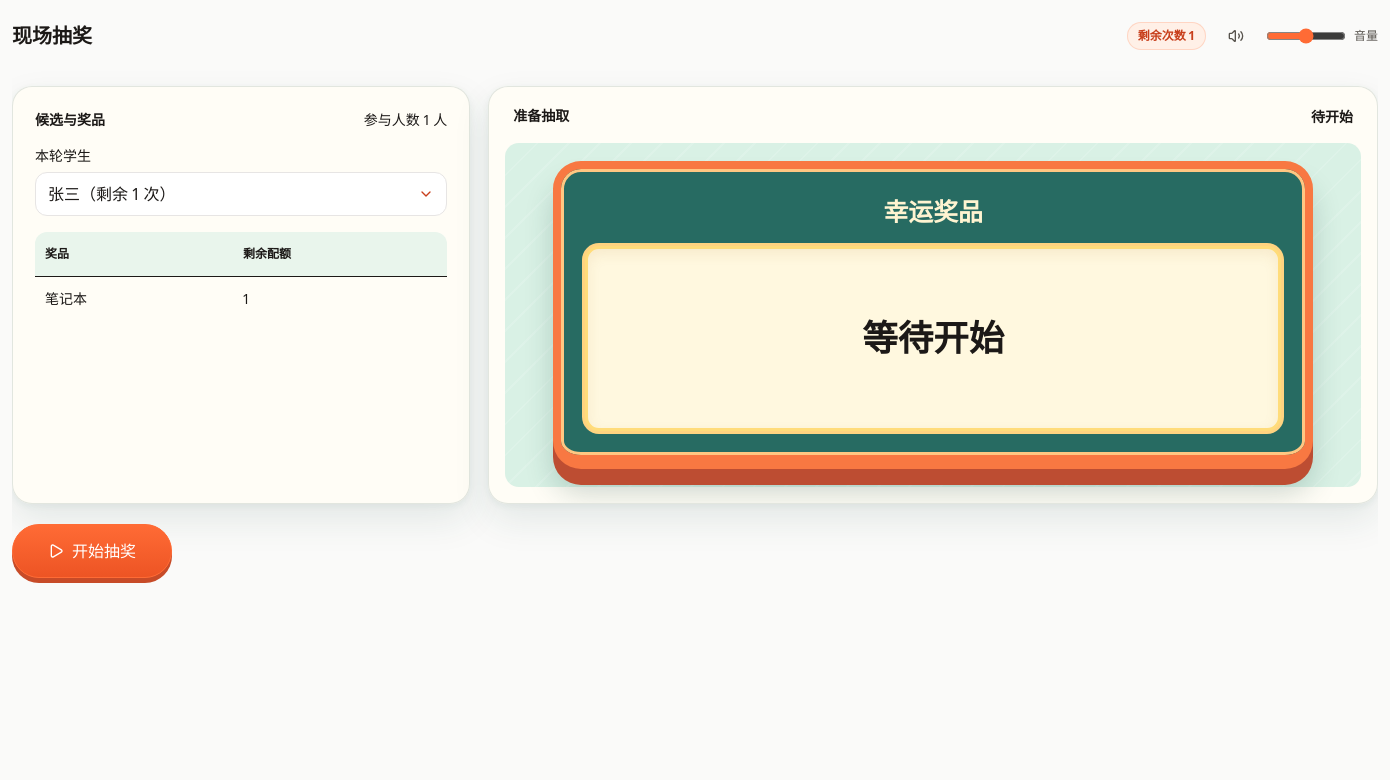
Test: one available prize uses a single window instead of repeating its name three times
The width and height of the screenshot is (1390, 780).
What coordinates should you click on to do the following:
click the dropdown named "本轮学生"
I would click on:
 (64, 194)
Its box is [35, 172, 447, 216].
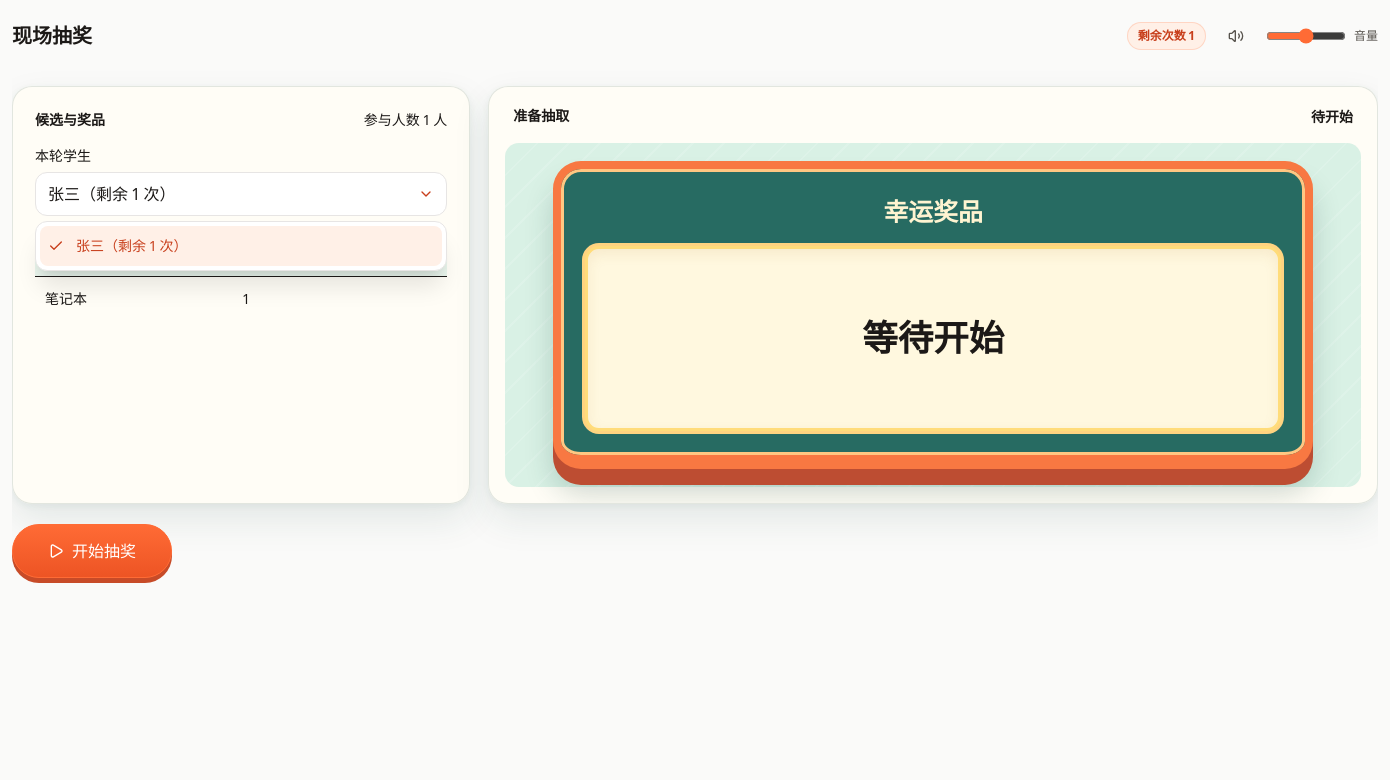
What coordinates should you click on to do the following:
click the option "张三（剩余 1 次）"
I would click on:
 (127, 246)
Its box is [40, 226, 442, 266].
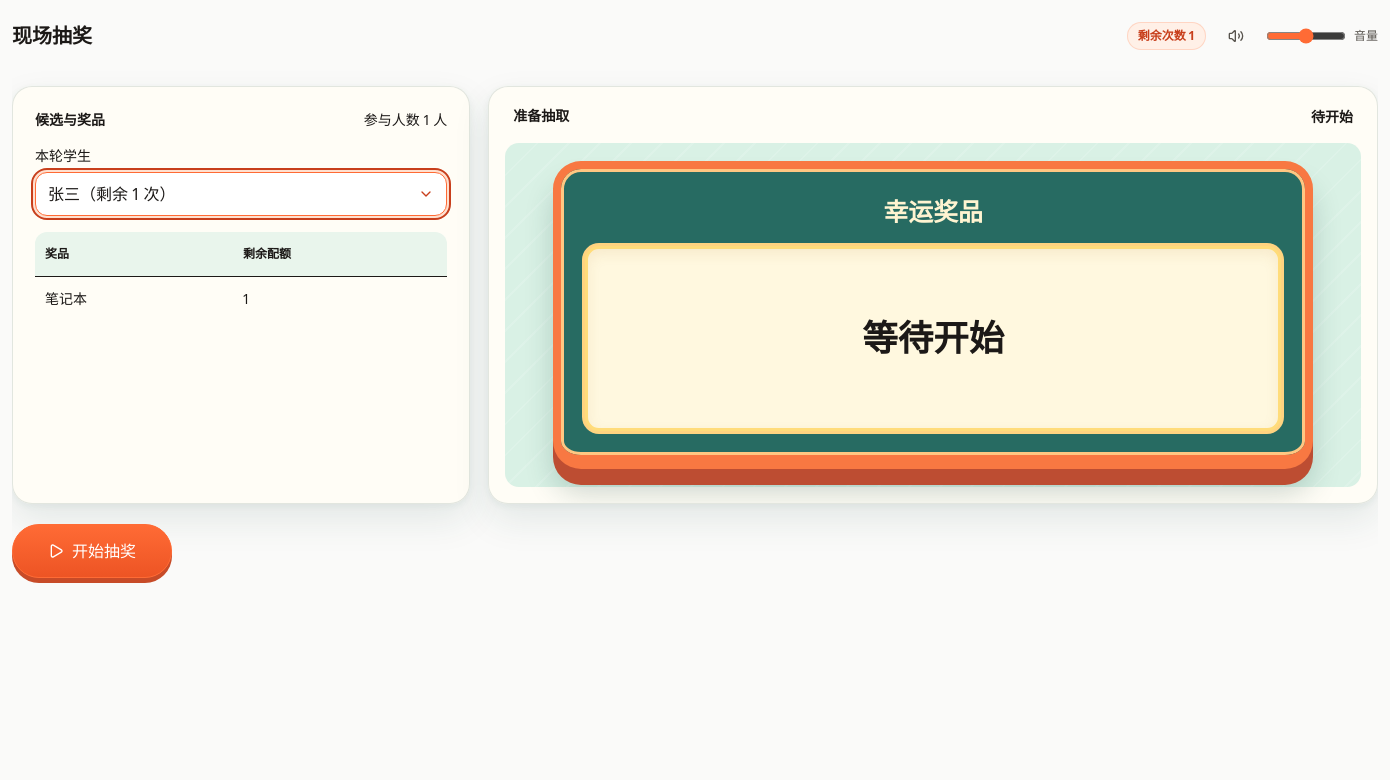
What coordinates should you click on to do the following:
click the button "开始抽奖"
I would click on:
 (92, 550)
Its box is [12, 524, 172, 578].
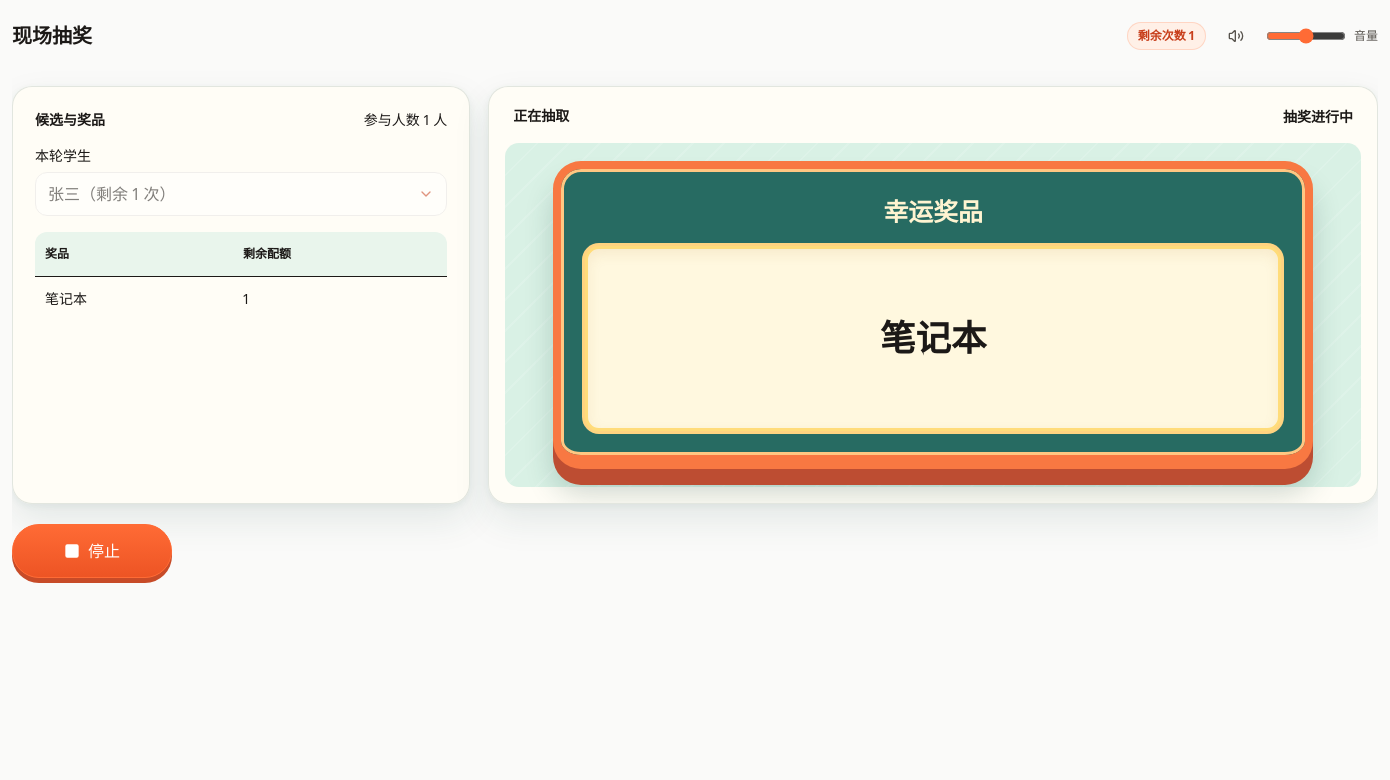
Result: the element with test id "slot-current" reads "笔记本" at [880, 313, 986, 361]
